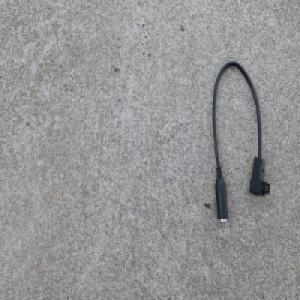Wire: (210, 58, 271, 224)
